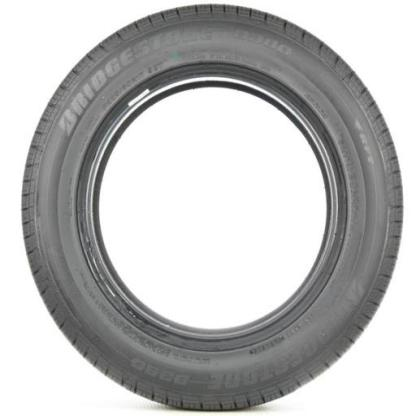Tire: (20, 4, 406, 412)
